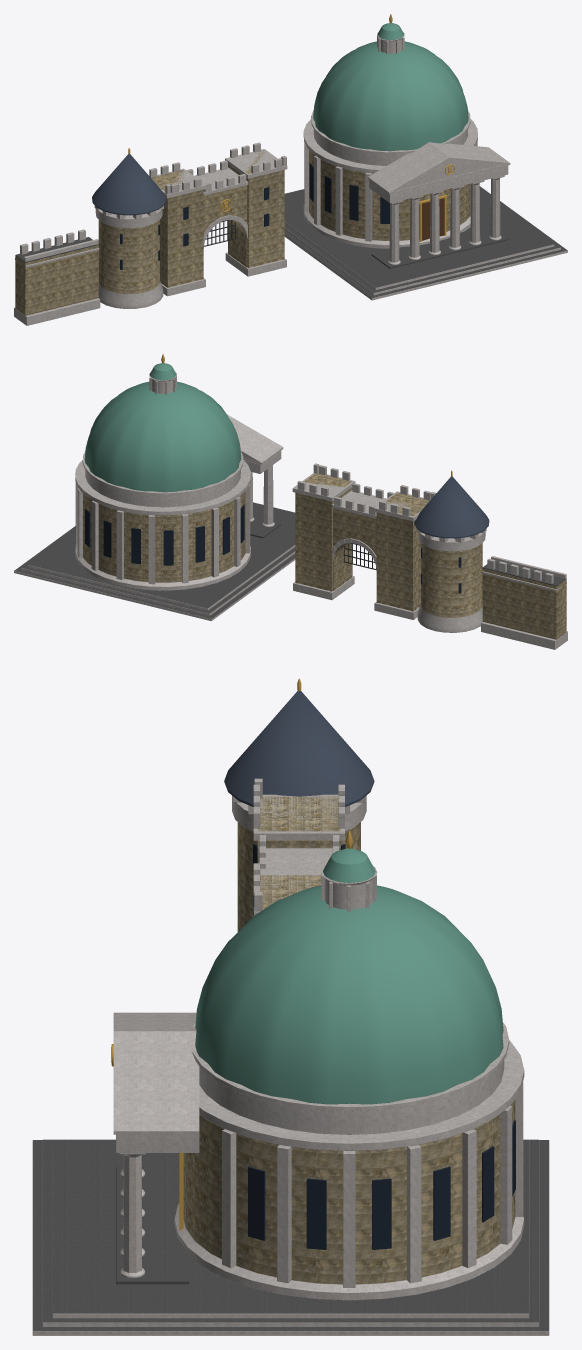
The model's file is city.glb.
3 renders of one model, top to bottom at view 1: azimuth 30°, elevation 25°; view 2: azimuth 150°, elevation 25°; view 3: azimuth 270°, elevation 25°, orthographic. The views are drawn at different scales.
Visible parts, largest first — view 1: MemorialHall_Body, CityGate_Body, CityTower_Body, CityWall_Body; view 2: MemorialHall_Body, CityGate_Body, CityTower_Body, CityWall_Body; view 3: MemorialHall_Body, CityTower_Body, CityGate_Body.
Boxes of the visible parts, box(x1,y1,x2,y2) form: MemorialHall_Body: box(284, 14, 567, 300); CityGate_Body: box(149, 142, 287, 296); CityTower_Body: box(92, 148, 166, 308); CityWall_Body: box(14, 229, 100, 325); MemorialHall_Body: box(14, 354, 295, 621); CityGate_Body: box(292, 463, 436, 619); CityTower_Body: box(414, 470, 489, 632); CityWall_Body: box(481, 556, 567, 649); MemorialHall_Body: box(32, 830, 549, 1335); CityTower_Body: box(224, 678, 374, 931); CityGate_Body: box(253, 778, 344, 915).
Size of the model in its own units: 66.7 by 27.11 by 31.
Materials: 9 (3 with a texture image).
